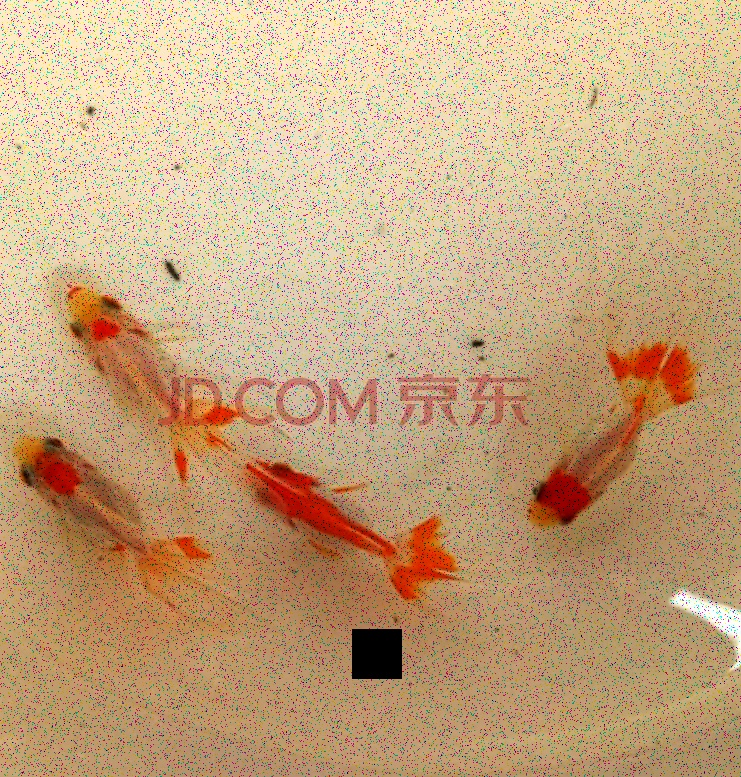fry: (483, 332, 695, 562), (204, 398, 444, 593), (2, 431, 239, 620), (38, 269, 245, 464)
